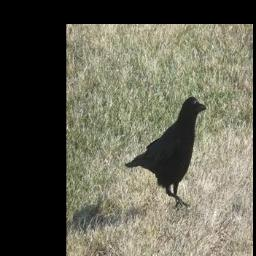Crow: (127, 92, 209, 206)
